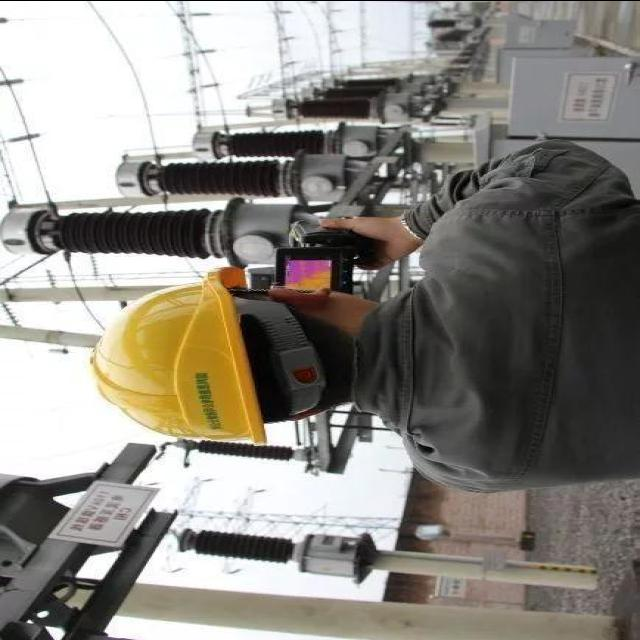helmet: (90, 259, 264, 461)
